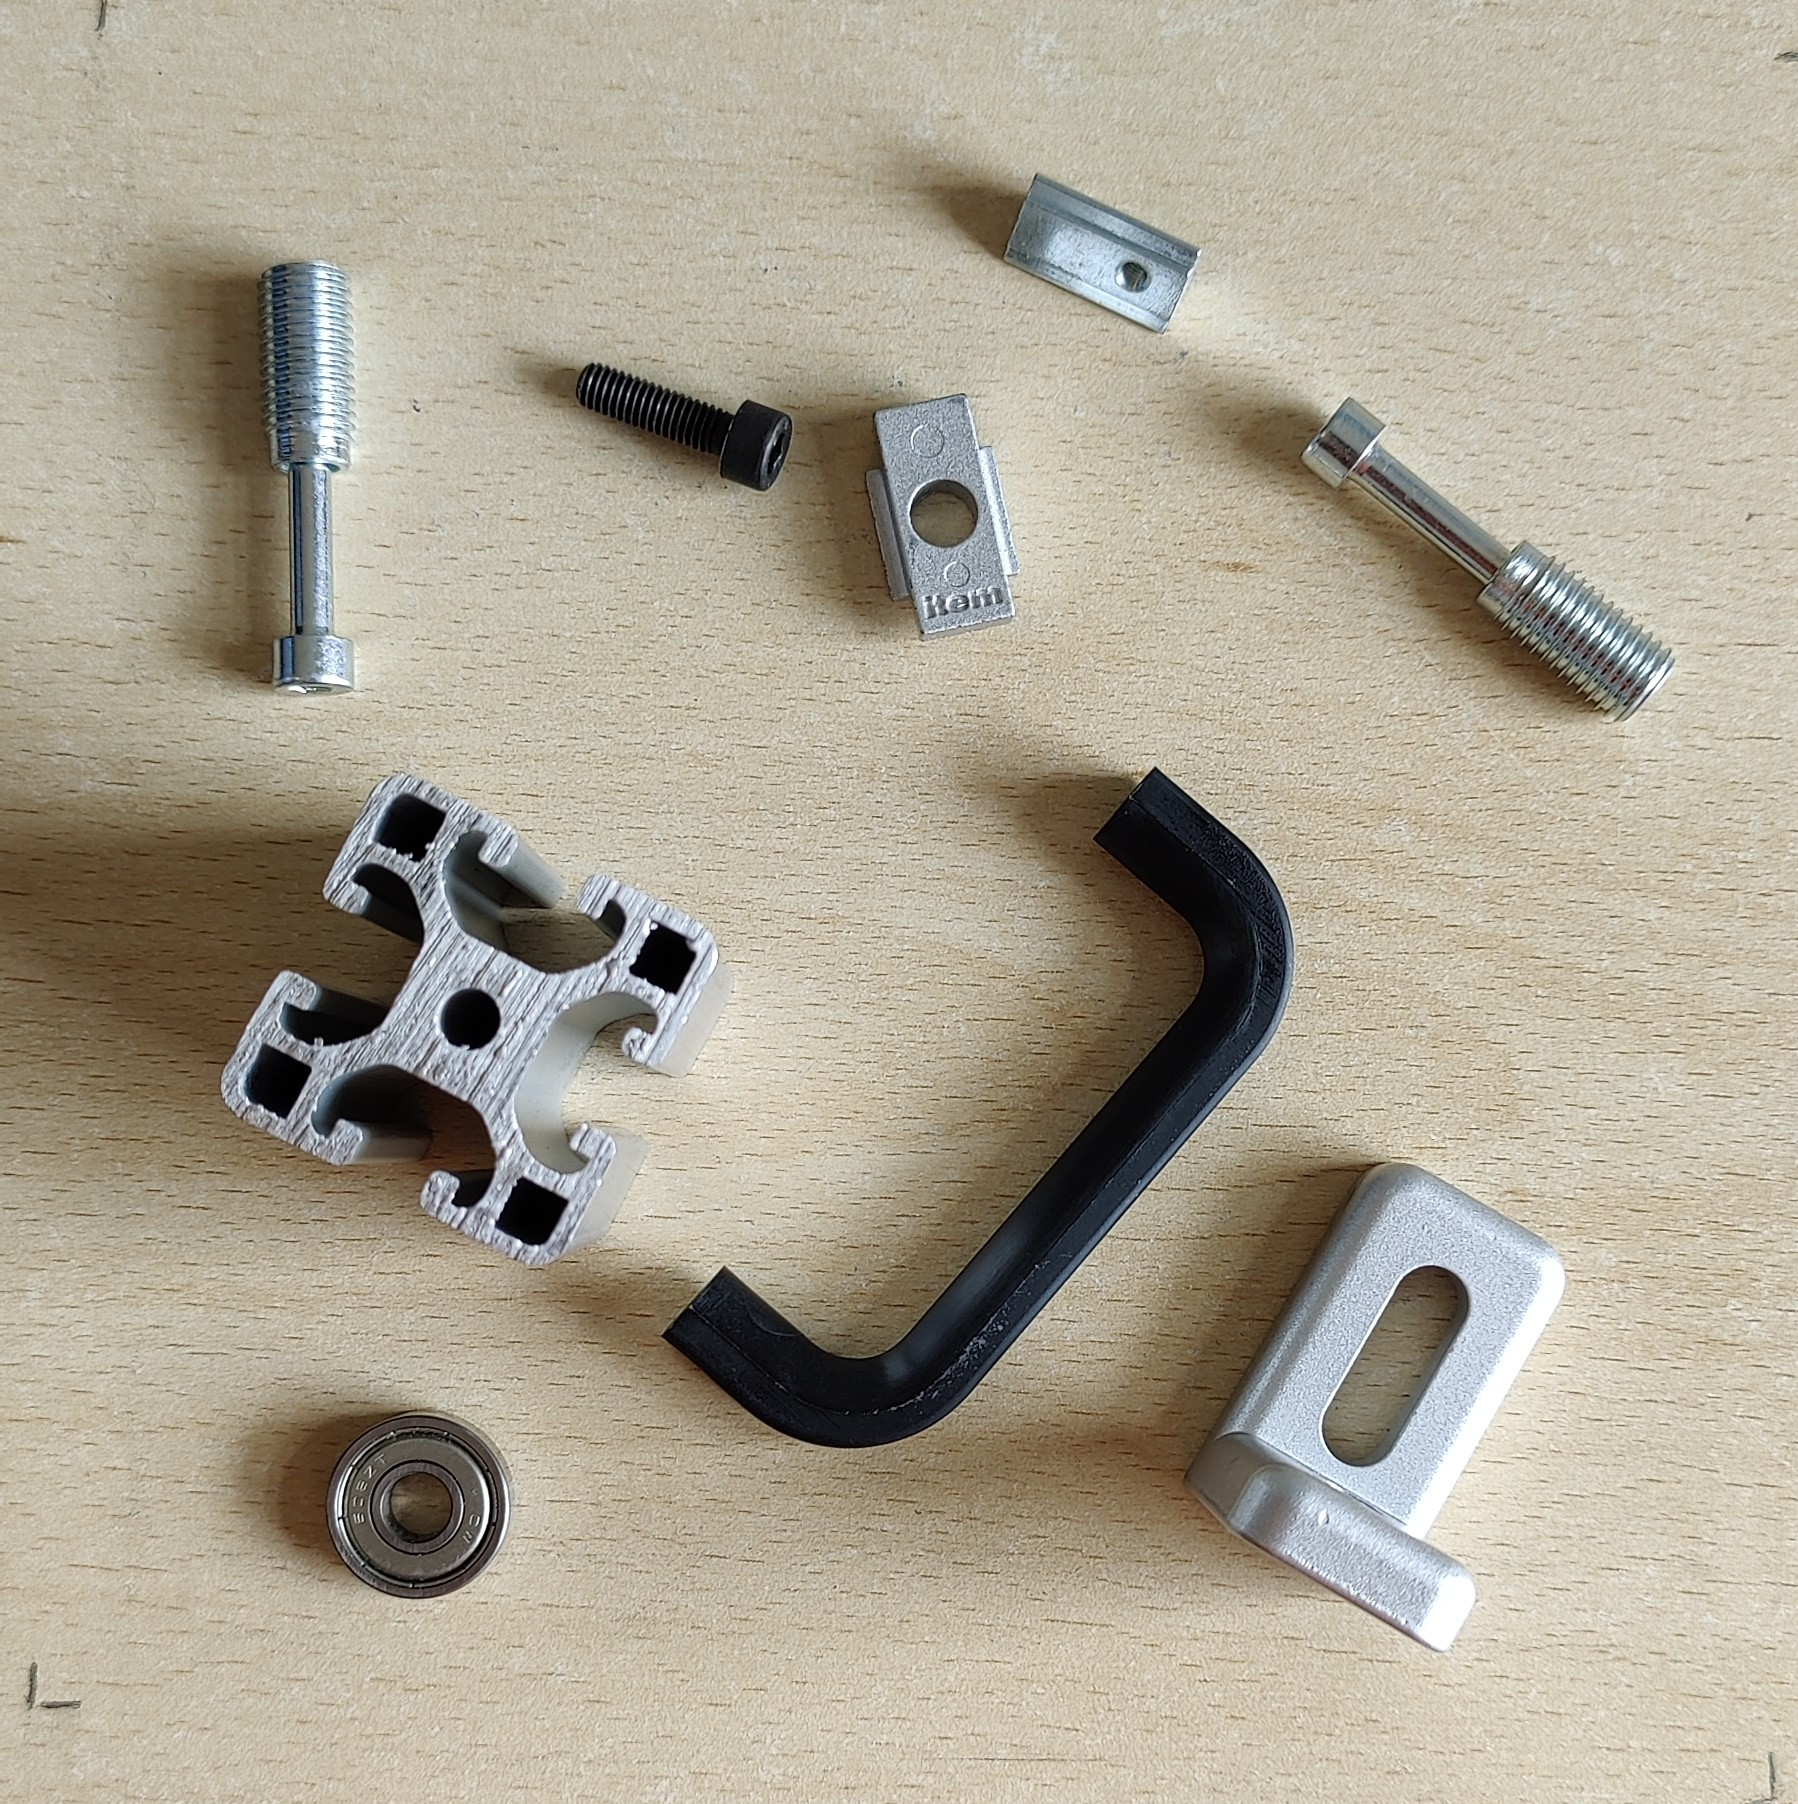Aluminium Extension: (217, 769, 733, 1271)
Ball Bearing: (323, 1406, 519, 1603)
Multiwinkel: (1181, 1160, 1567, 1654)
Pull Handle: (660, 762, 1296, 1452)
Shoulder Socket Head Cap Screw: (1296, 393, 1681, 726), (255, 257, 361, 701)
Socket Head Cap Screw: (570, 357, 795, 495)
T Nut Square: (863, 388, 1024, 644)
T Spring Nut: (999, 166, 1204, 337)
